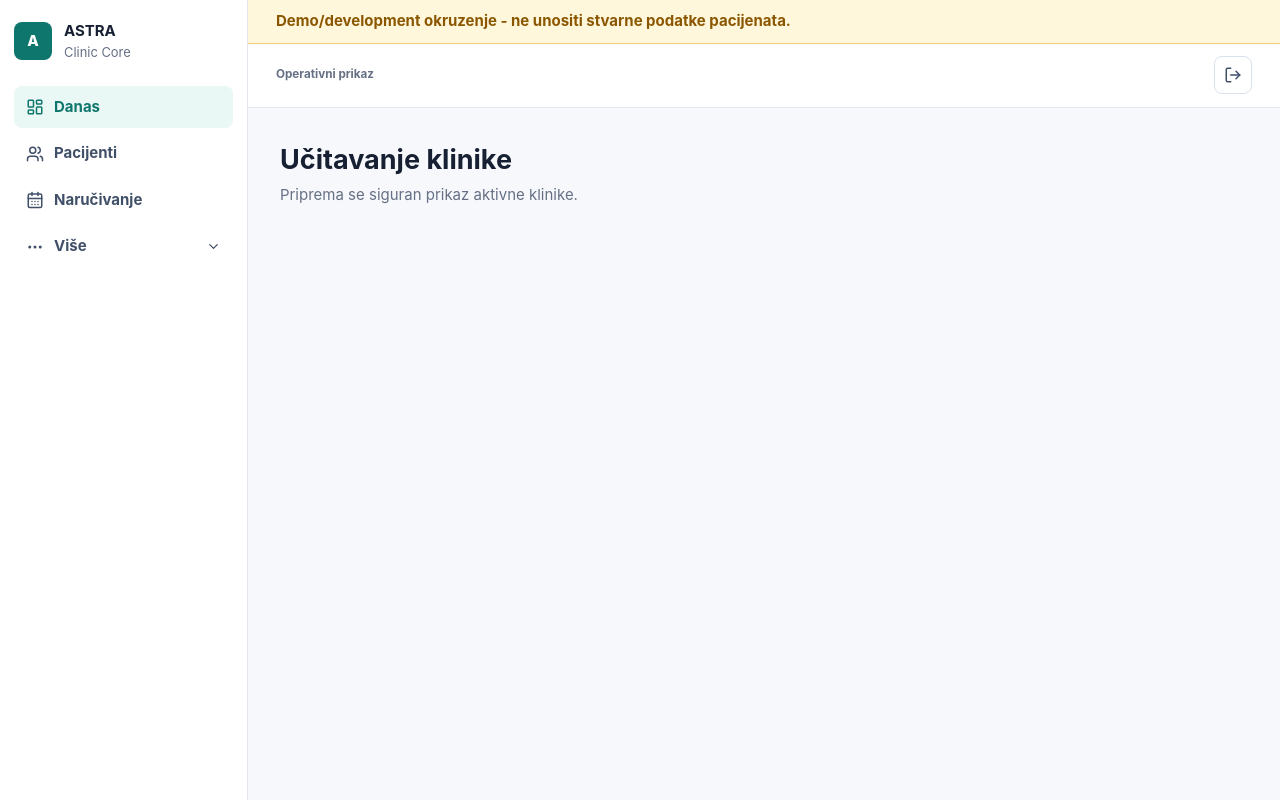
Test: navigacija prema zadatku i ulozi › mrežna pogreška zadržava prijavu i ponovno aktivira odjavu
Click the button named "Odjava" at (1233, 75), box [1214,56,1252,94]
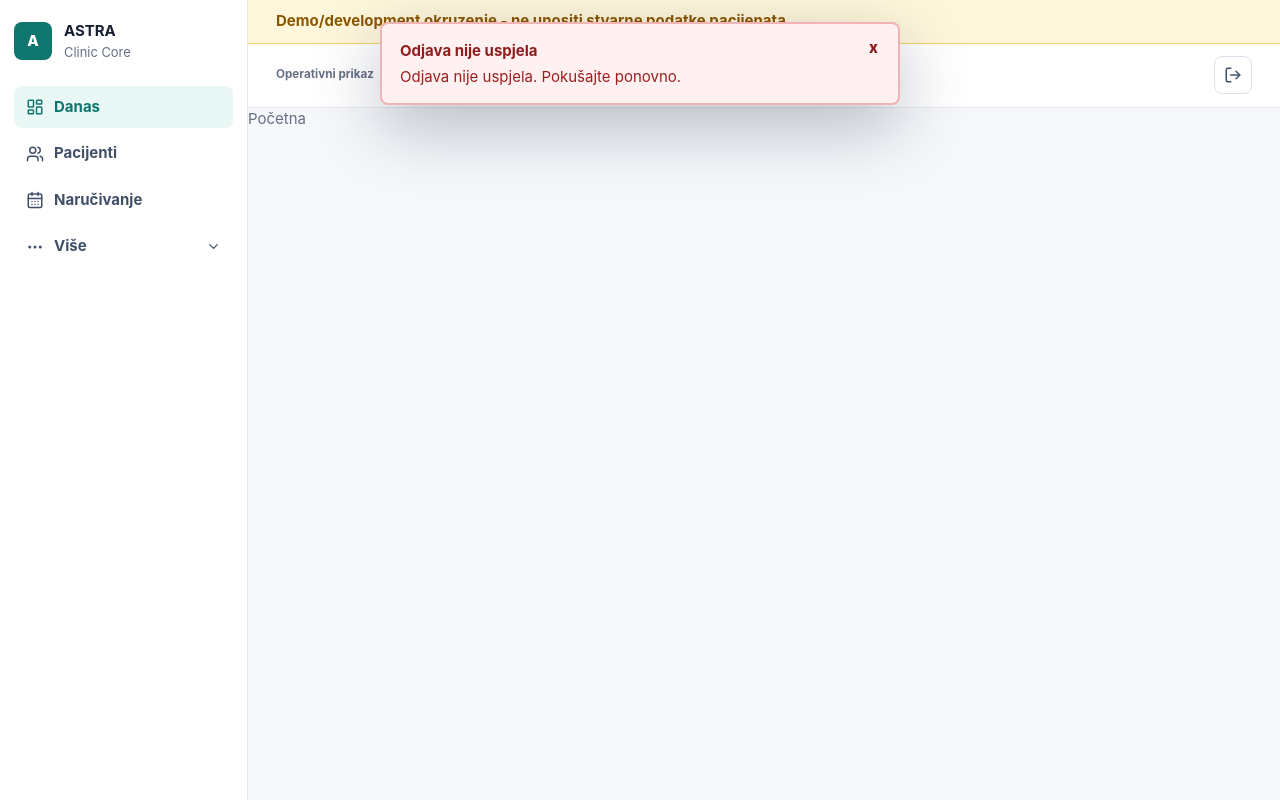
Now the text "Odjava nije uspjela. Pokušajte ponovno." is shown, box [400,66,681,87]
Now the text "Početna" is shown, box [248,108,306,128]
